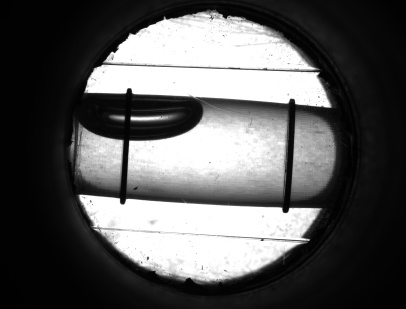line: (278, 116, 300, 195), (114, 147, 134, 184)
